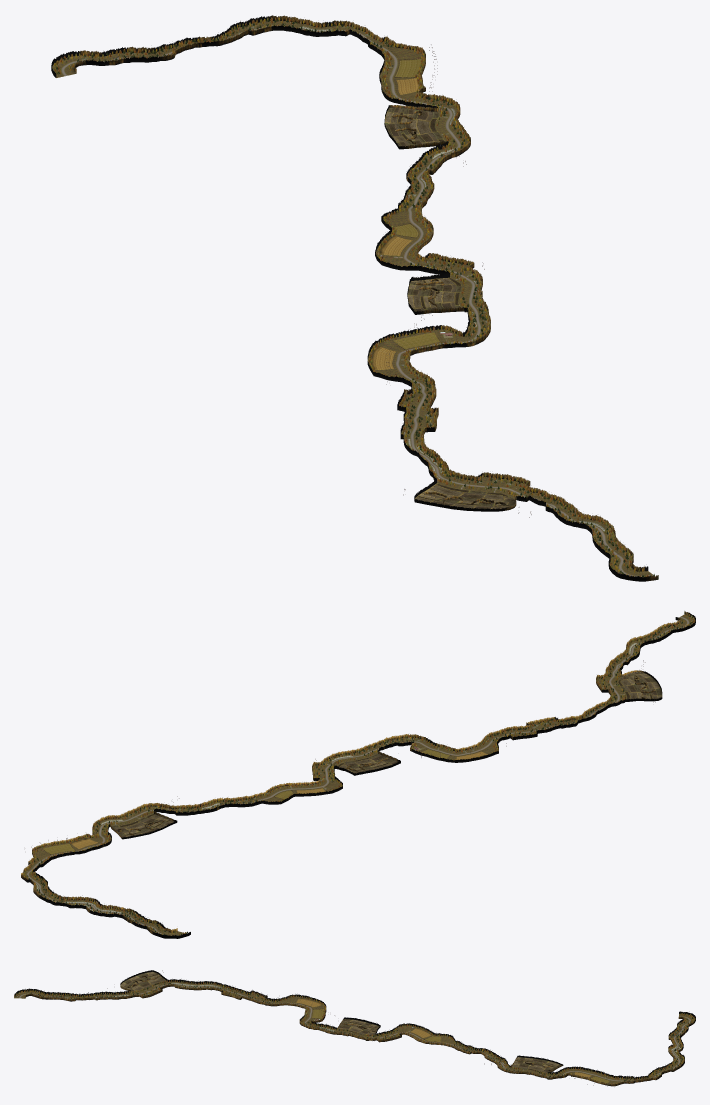
Rendered from finland_stage1_visual.glb.
3 renders of one model, top to bottom at view 1: azimuth 30°, elevation 25°; view 2: azimuth 150°, elevation 25°; view 3: azimuth 270°, elevation 25°, orthographic. The views are drawn at different scales.
Visible parts, largest first — view 1: Track_Road_And_Terrain, Foliage_And_Vegetation; view 2: Track_Road_And_Terrain, Foliage_And_Vegetation; view 3: Track_Road_And_Terrain, Foliage_And_Vegetation.
Boxes of the visible parts, x1,y1,x2,y2 form: Track_Road_And_Terrain: (51, 15, 658, 581); Foliage_And_Vegetation: (53, 17, 654, 577); Track_Road_And_Terrain: (21, 611, 695, 938); Foliage_And_Vegetation: (22, 612, 695, 935); Track_Road_And_Terrain: (14, 970, 695, 1086); Foliage_And_Vegetation: (15, 975, 695, 1084).
Size of the model in its own units: 1477 by 38.4 by 3543.
51 materials, 51 textured.
